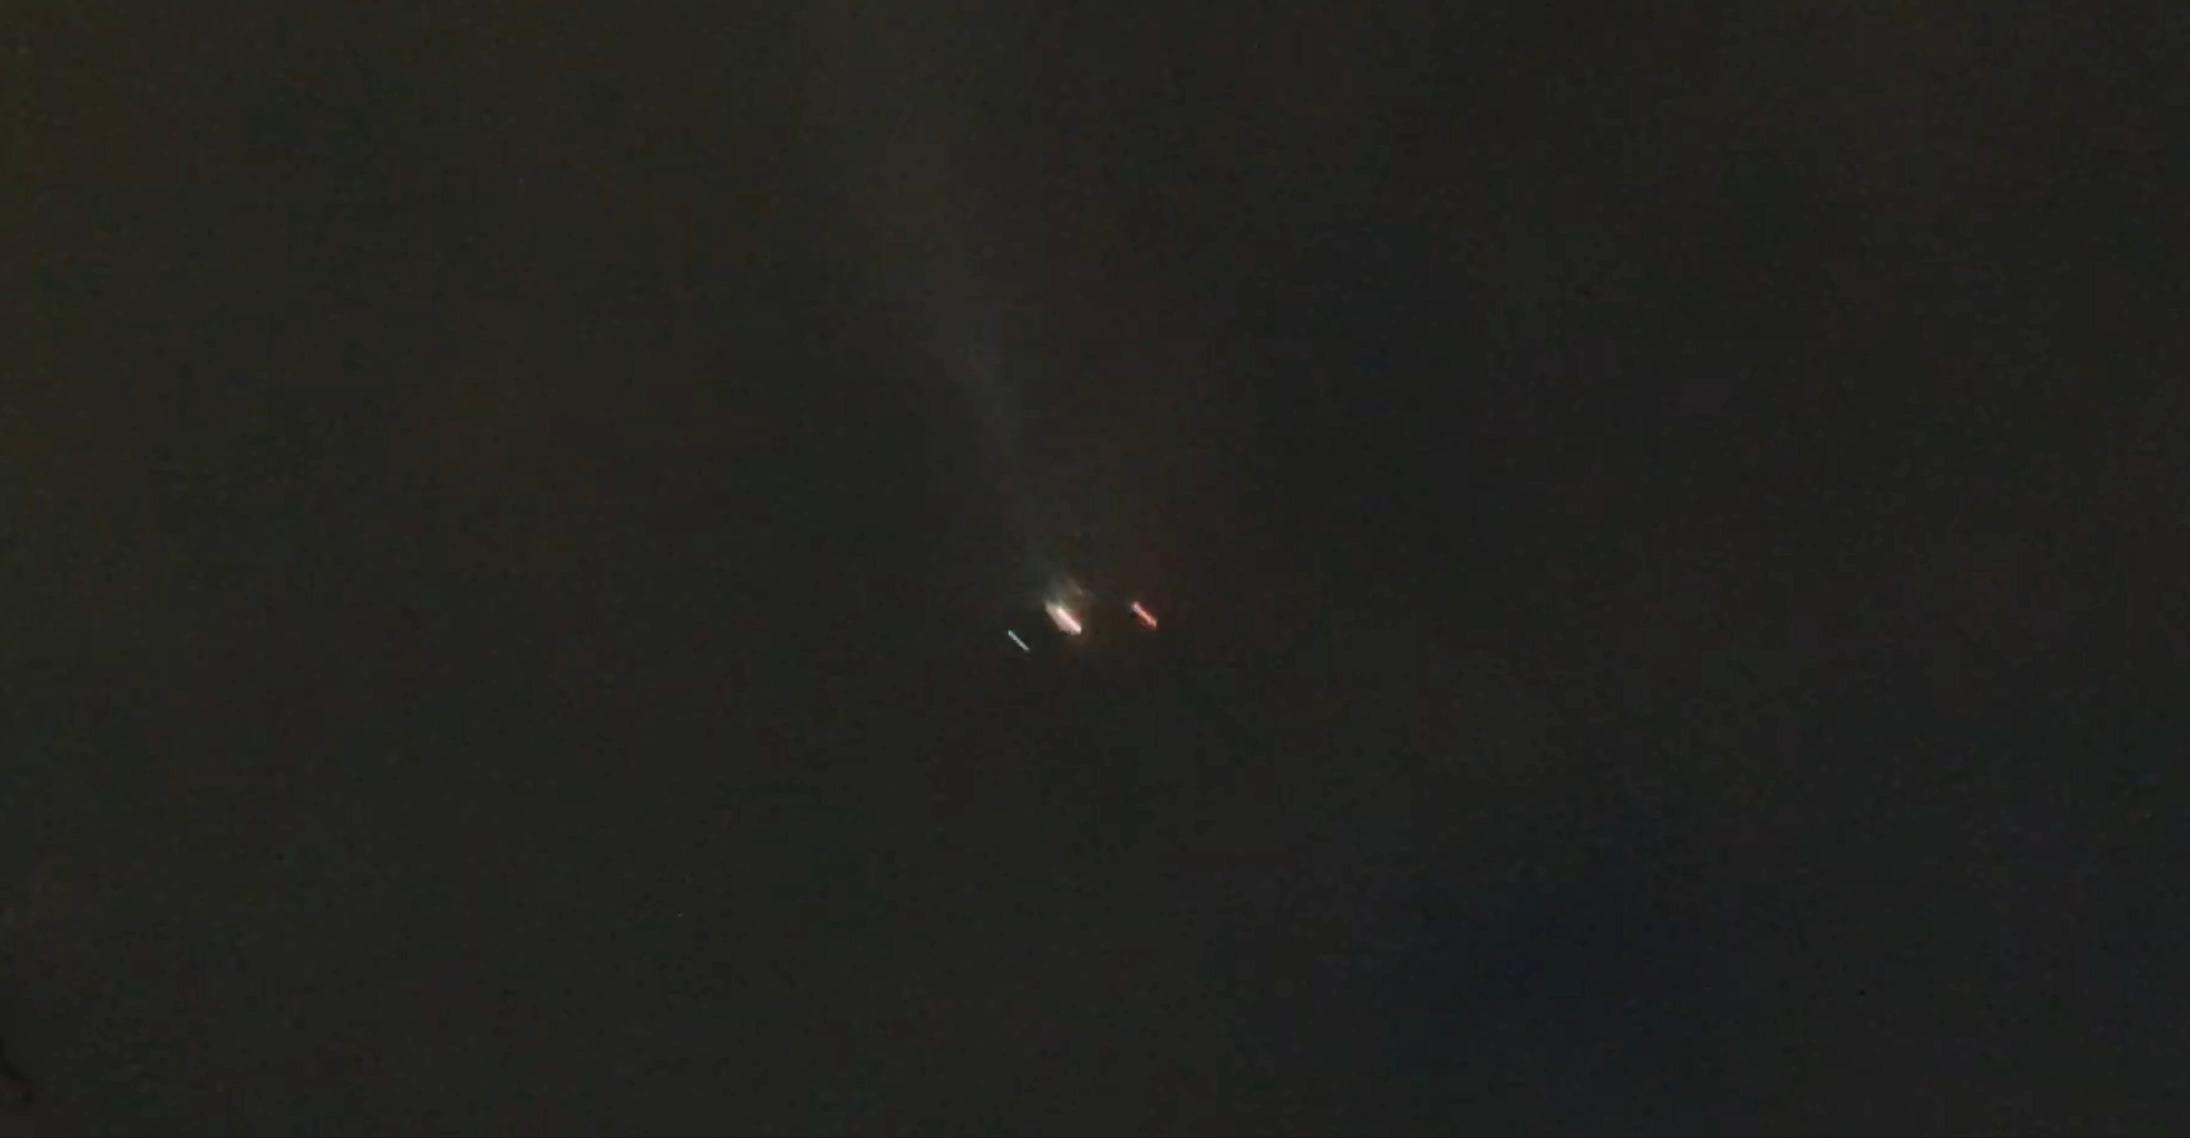Plane: (923, 546, 1241, 678)
